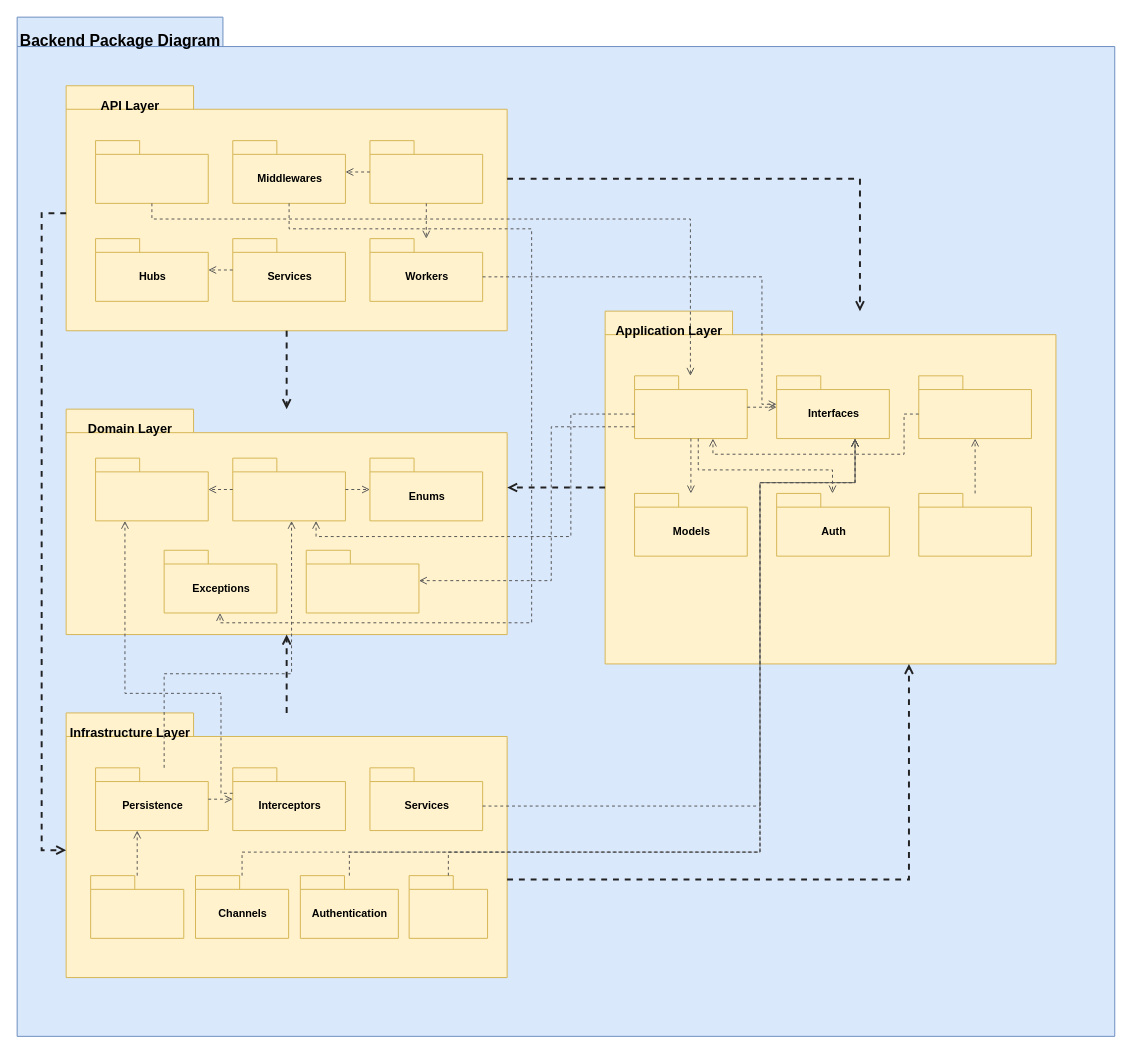
The diagram is 1132 pixels wide and 1054 high, and some of its shapes have lost their labels. Each missing label, with the centre of its shape:
Behaviors: point 974,407
Common: point 151,489
Configuration: point 426,171
Controllers: point 151,171
Entities: point 288,489
Extensions: point 974,524
Features: point 690,407
Identity: point 362,581
Migrations: point 137,906
Reporting: point 448,906
